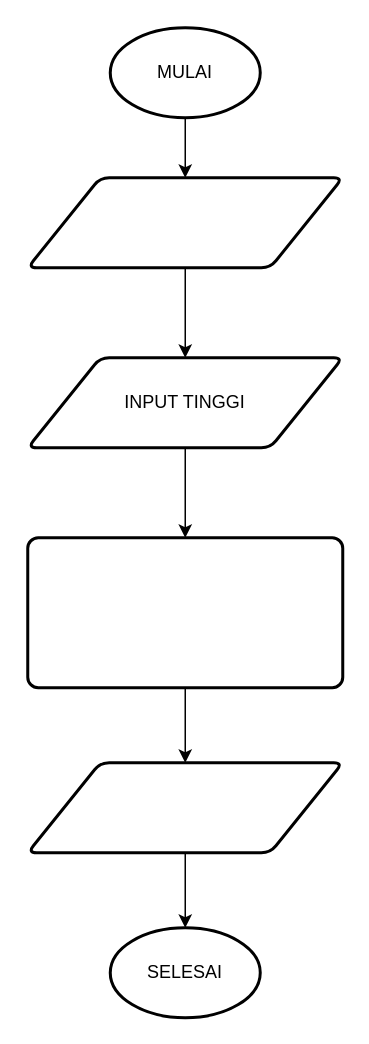
This 369x1044 diagram has some shape labels left out. Here are the shapes that lost their labels. From the top down, the box of each, then its label:
(26, 176, 344, 268): INPUT ALAS
(26, 536, 344, 688): LUAS = 1/2*(ALAS *TINGGI)
